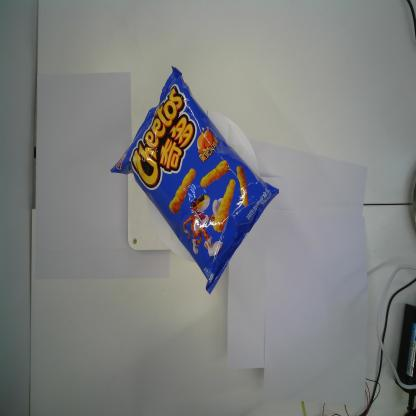Puffed Food: (109, 64, 280, 297)
